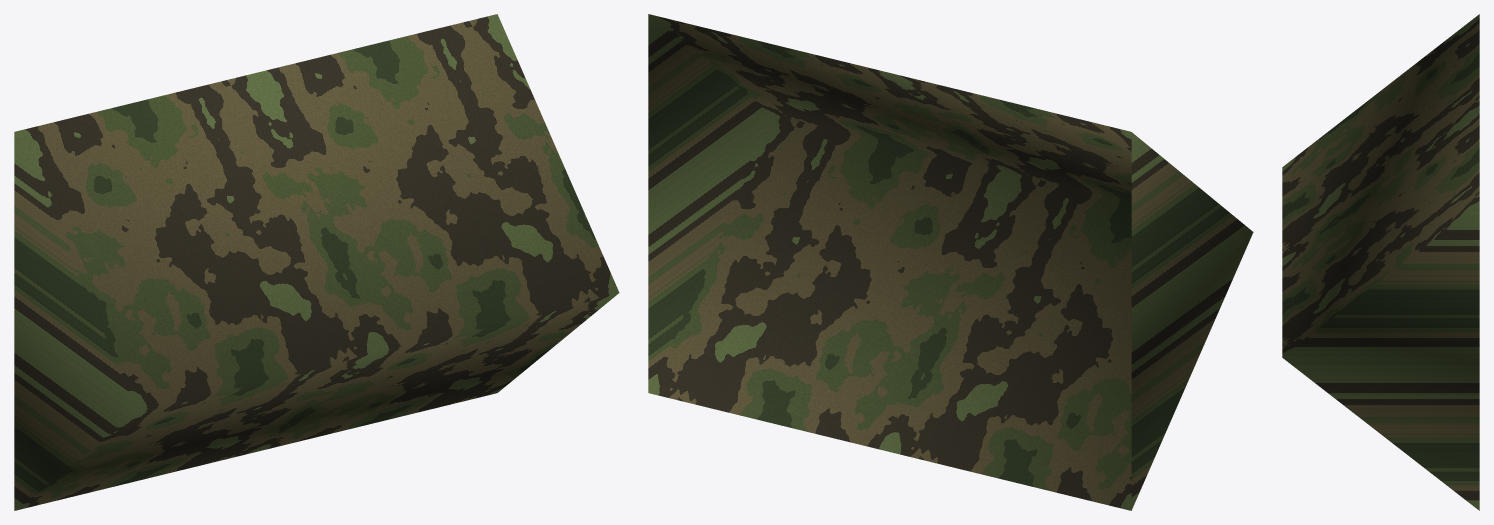
The model's file is tent_camo.glb.
The picture shows the model from 3 angles, left to right: view 1: azimuth 30°, elevation 25°; view 2: azimuth 150°, elevation 25°; view 3: azimuth 270°, elevation 25°; orthographic projection. The views are drawn at different scales.
Bounding box in the file's own units: 3.2 × 2.4 × 1.4.
1 material, 1 textured.
